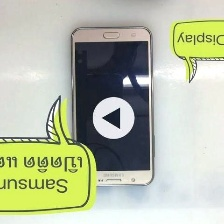phone: (66, 23, 158, 189)
